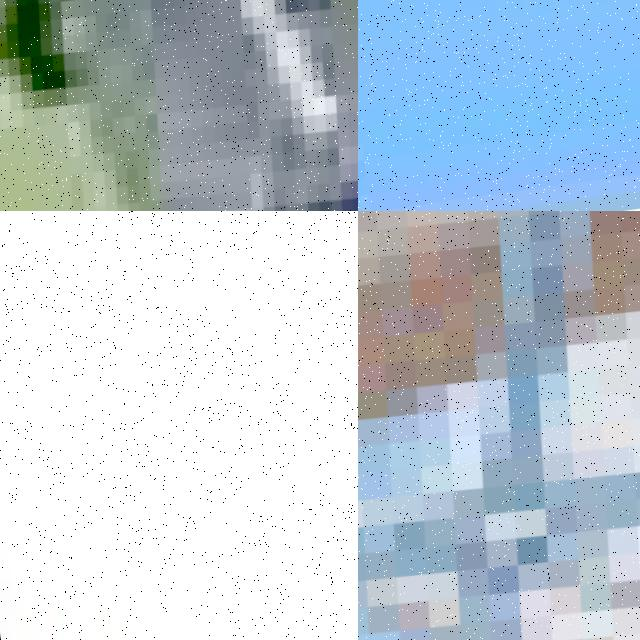0: (0, 0, 358, 211)
drone: (358, 211, 640, 640)
